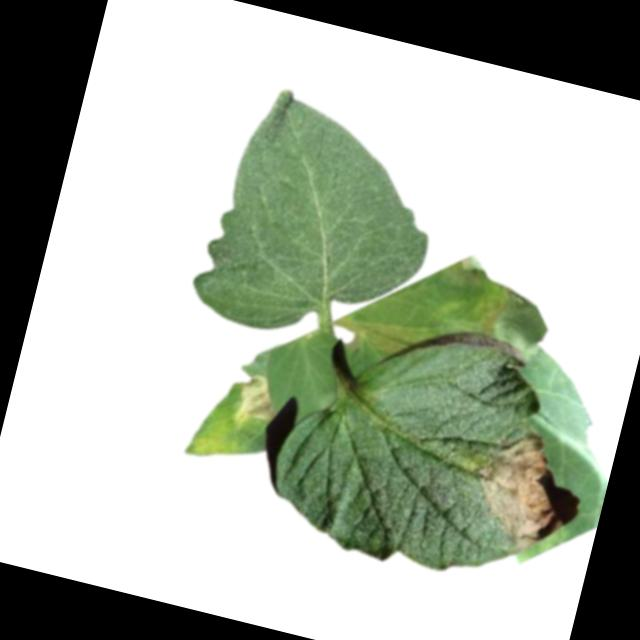Late_blight: (463, 423, 581, 562), (464, 282, 554, 369), (227, 368, 284, 437), (439, 245, 495, 293)
healthy: (184, 78, 458, 364)
